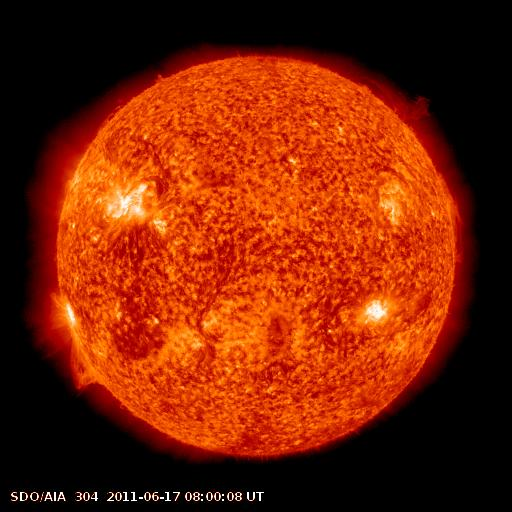prominence: (358, 66, 441, 130), (440, 181, 480, 268), (62, 336, 104, 400)
